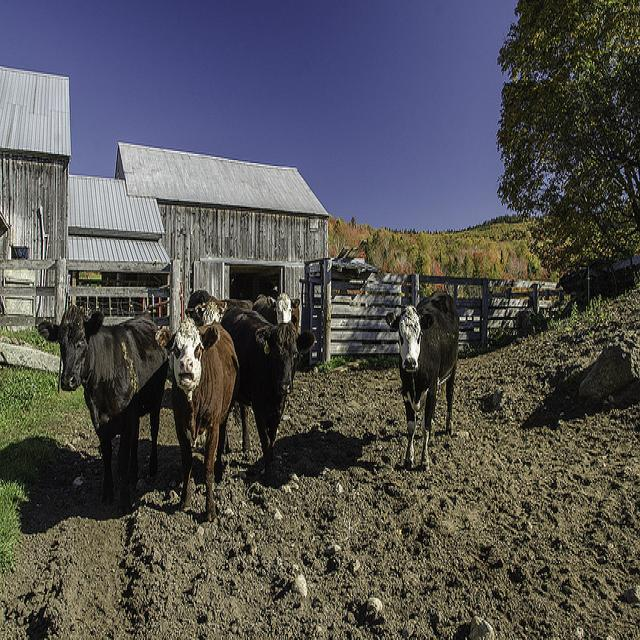cow: (33, 297, 164, 512), (220, 303, 314, 480), (156, 314, 235, 522), (386, 287, 459, 466), (184, 287, 227, 323), (252, 292, 298, 325)
